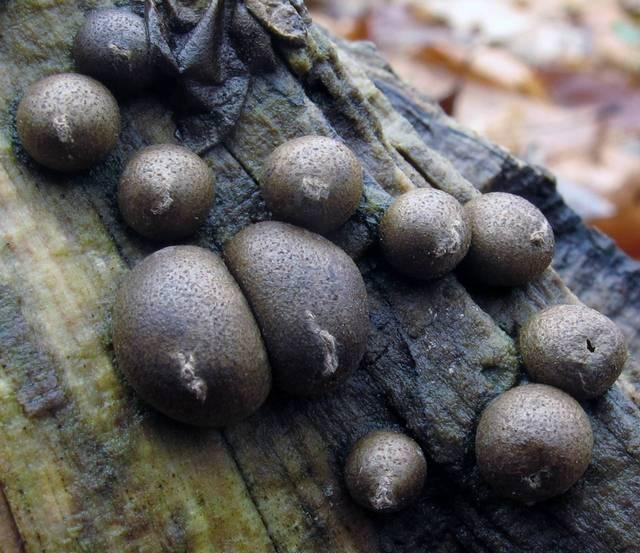poisonous_mushroom: (13, 0, 631, 513), (110, 243, 272, 427), (221, 219, 370, 396), (473, 381, 594, 503), (13, 70, 121, 172), (517, 302, 628, 399), (258, 133, 364, 231), (115, 141, 216, 239), (461, 190, 555, 286), (377, 186, 470, 279), (70, 4, 160, 91), (342, 427, 427, 512)
